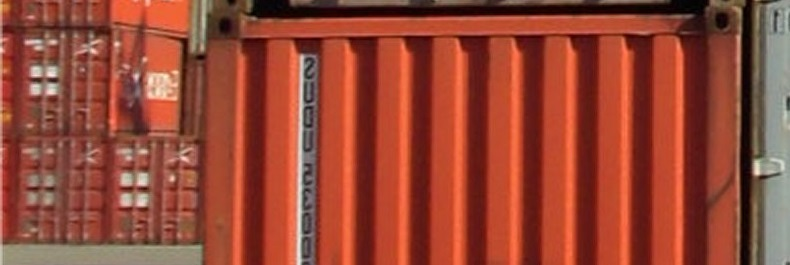container_door: (14, 133, 105, 244), (109, 135, 200, 246), (20, 30, 113, 132)
container_no_door: (213, 11, 744, 261)
